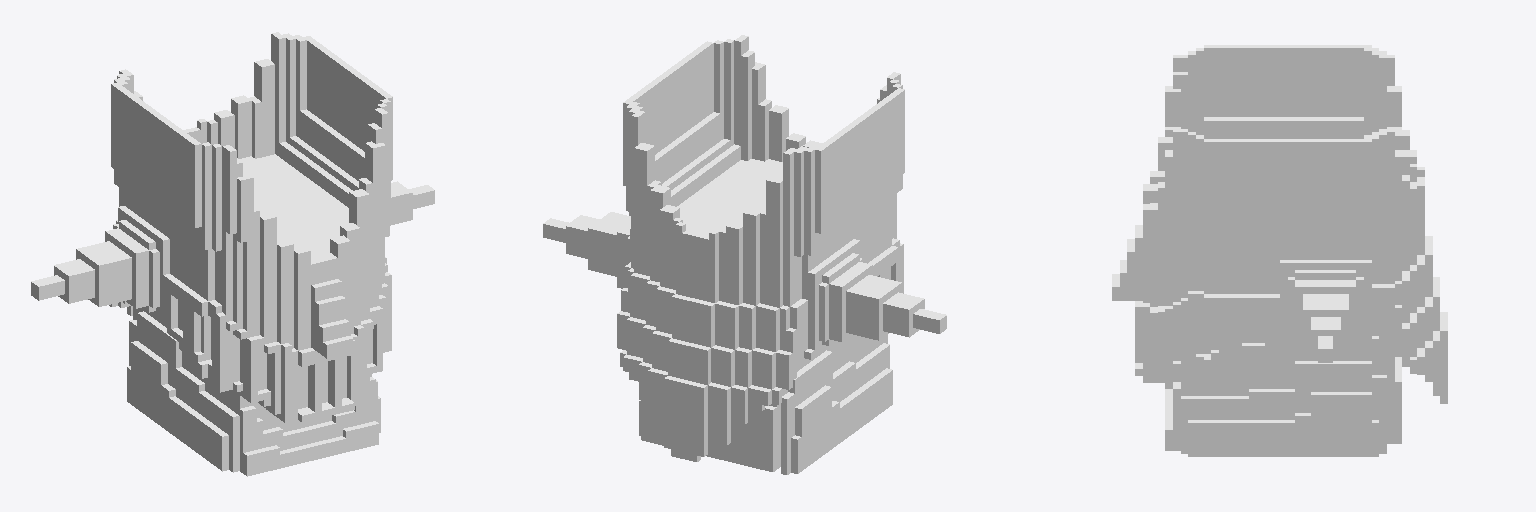
The model's file is MazingerHead.obj.
3 views of the same model, side by side, from view 1: azimuth 30°, elevation 25°; view 2: azimuth 150°, elevation 25°; view 3: azimuth 270°, elevation 25° (orthographic).
Parts seen in each view (by area): view 1: MazingerHead; view 2: MazingerHead; view 3: MazingerHead.
Part boxes in pixels (x1,y1,x2,y2): MazingerHead: (31,32,434,476); MazingerHead: (543,35,946,474); MazingerHead: (1112,45,1447,456).
Size of the model in its own units: 60 by 47 by 44.